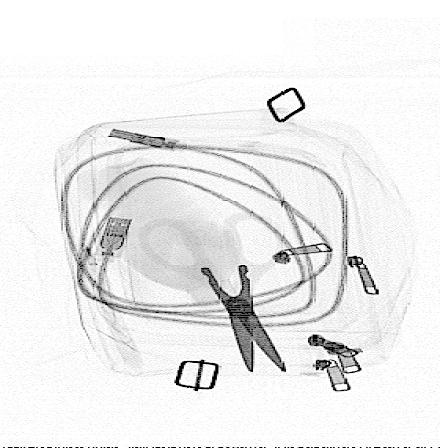Scissors: (137, 207, 292, 376)
